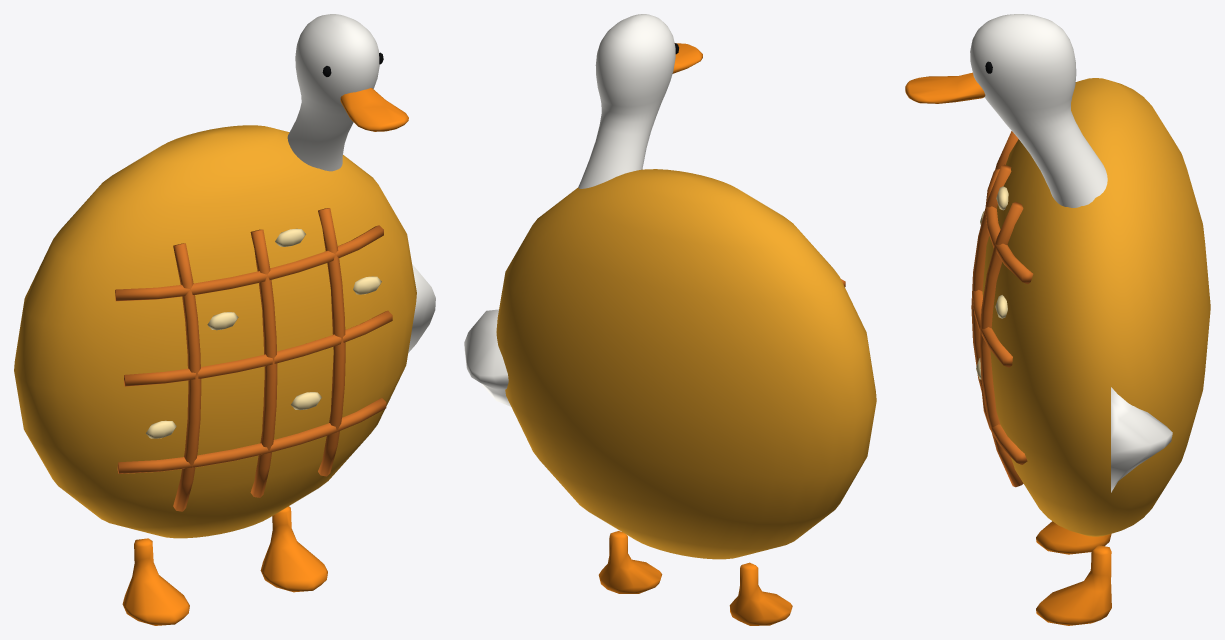
The model's file is duck-milletcake.glb.
3 renders of one model, left to right at view 1: azimuth 30°, elevation 25°; view 2: azimuth 150°, elevation 25°; view 3: azimuth 270°, elevation 25°, orthographic. The views are drawn at different scales.
Parts seen in each view (by area): view 1: duck-milletcake; view 2: duck-milletcake; view 3: duck-milletcake.
Boxes of the visible parts, bbox=[...] form: duck-milletcake: bbox=[14, 14, 435, 625]; duck-milletcake: bbox=[464, 14, 876, 625]; duck-milletcake: bbox=[905, 14, 1210, 625].
Bounding box in the file's own units: 0.7673 × 1 × 0.4542.
1 material, 1 textured.
